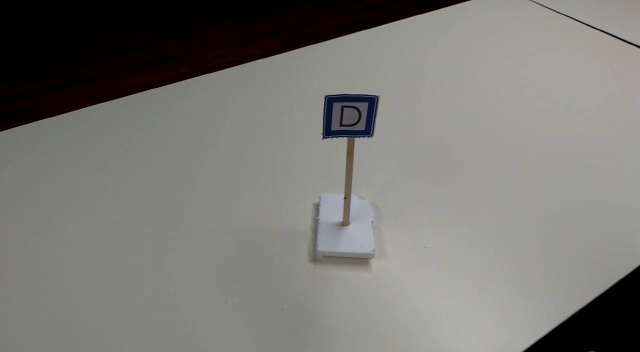durak: (323, 93, 377, 137)
